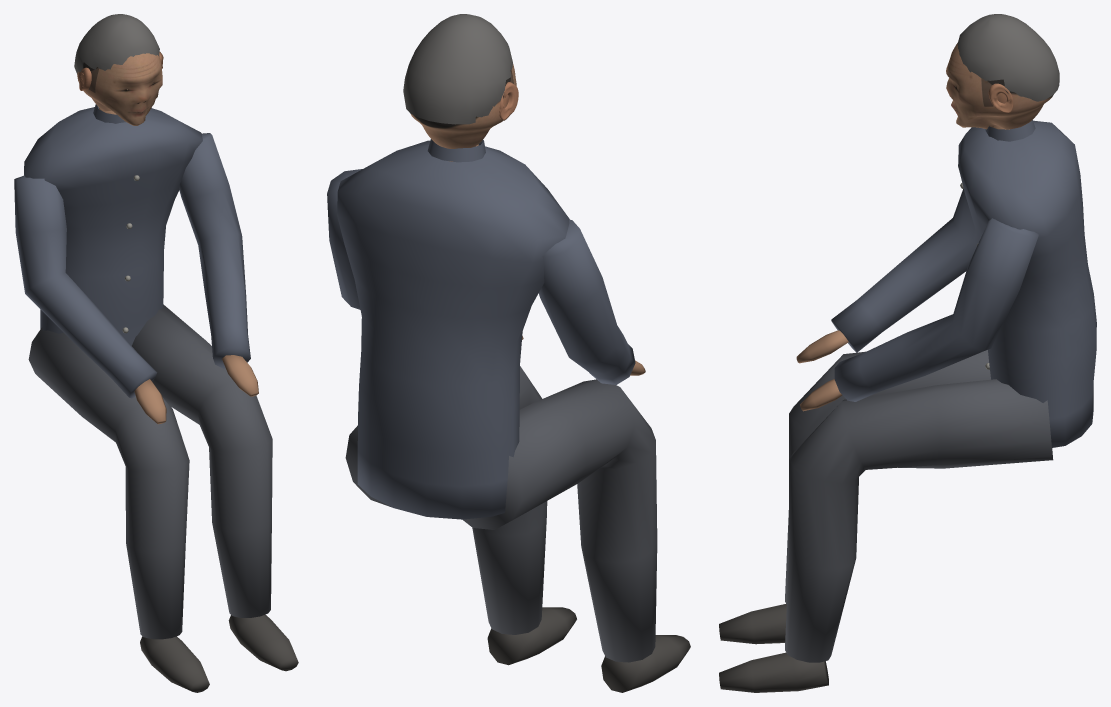
Rendered from guest_a.glb.
The picture shows the model from 3 angles, left to right: view 1: azimuth 30°, elevation 25°; view 2: azimuth 150°, elevation 25°; view 3: azimuth 270°, elevation 25°; orthographic projection. The views are drawn at different scales.
Parts seen in each view (by area): view 1: GTorso, GLegR, GLegL, GSleeveL, GSleeveR, Head, GHairShell, GFootL, GFootR, GHandR, GHandL; view 2: GTorso, GLegL, GHairShell, GSleeveL, GLegR, GFootL, GFootR, Head, GSleeveR, GCollar; view 3: GLegR, GTorso, GSleeveR, GSleeveL, GHairShell, Head, GLegL, GFootR, GFootL, GHandL, GHandR, GCollar.
Boxes of the visible parts, box(x1,y1,x2,y2) form: GTorso: box(24, 107, 202, 345); GLegR: box(132, 304, 272, 617); GLegL: box(28, 327, 189, 639); GSleeveL: box(14, 175, 157, 398); GSleeveR: box(179, 133, 250, 368); Head: box(77, 53, 162, 125); GHairShell: box(74, 14, 159, 73); GFootL: box(140, 636, 209, 692); GFootR: box(228, 614, 298, 671); GHandR: box(222, 355, 258, 396); GHandL: box(134, 379, 166, 424); GTorso: box(337, 140, 569, 519); GLegL: box(463, 379, 657, 662); GHairShell: box(403, 14, 512, 124); GSleeveL: box(538, 219, 635, 384); GLegR: box(345, 366, 547, 634); GFootL: box(601, 635, 690, 692); GFootR: box(487, 607, 576, 665); Head: box(411, 64, 516, 148); GSleeveR: box(327, 169, 362, 309); GCollar: box(427, 139, 485, 162); GLegR: box(785, 379, 1053, 662); GTorso: box(958, 120, 1096, 447); GSleeveR: box(834, 218, 1038, 401); GSleeveL: box(831, 189, 978, 352); GHairShell: box(957, 14, 1059, 101); Head: box(946, 42, 1053, 129); GLegL: box(785, 350, 990, 604); GFootR: box(719, 652, 828, 692); GFootL: box(719, 604, 786, 644); GHandL: box(796, 330, 848, 363); GHandR: box(800, 379, 842, 411); GCollar: box(985, 120, 1035, 141).
Bounding box in the file's own units: 0.4576 × 1.18 × 0.6225.
Materials: 7 (1 with a texture image).
